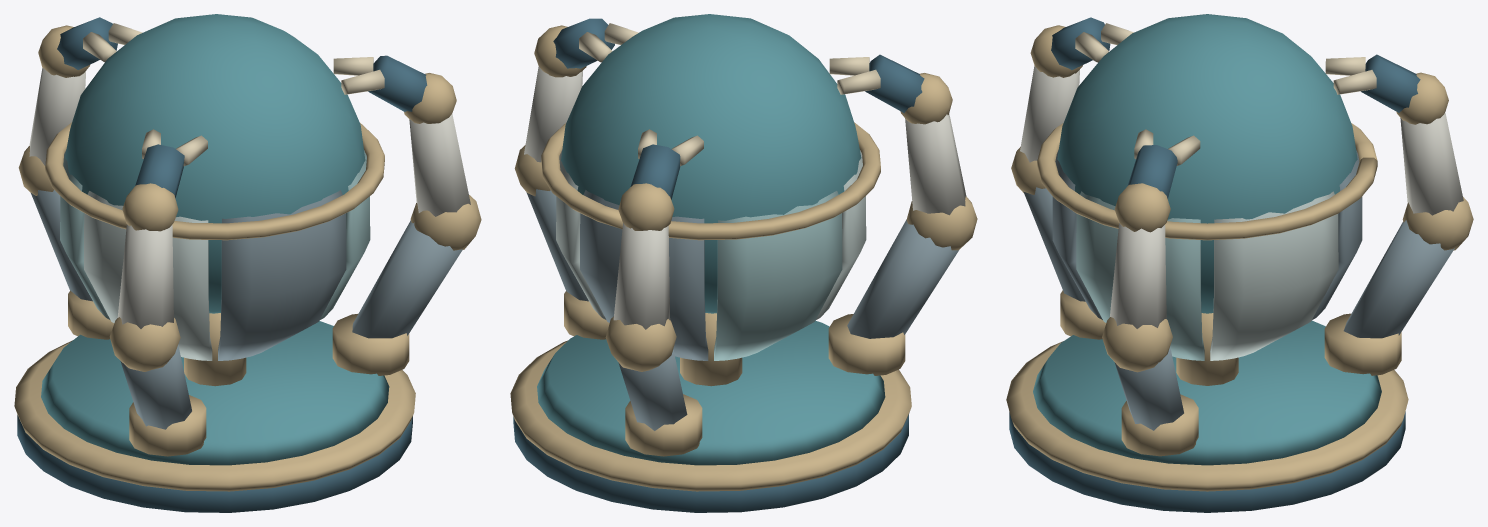
Rendered from ART-37.glb.
3 views of the same model, side by side, from view 1: azimuth 30°, elevation 25°; view 2: azimuth 150°, elevation 25°; view 3: azimuth 270°, elevation 25° (orthographic).
Visible parts, largest first — view 1: world; view 2: world; view 3: world.
Part boxes in pixels (left/top/right/bottom): world: left=14, top=14, right=481, bottom=512; world: left=510, top=14, right=977, bottom=512; world: left=1006, top=14, right=1473, bottom=512.
Bounding box in the file's own units: 2 × 1.96 × 1.99.
